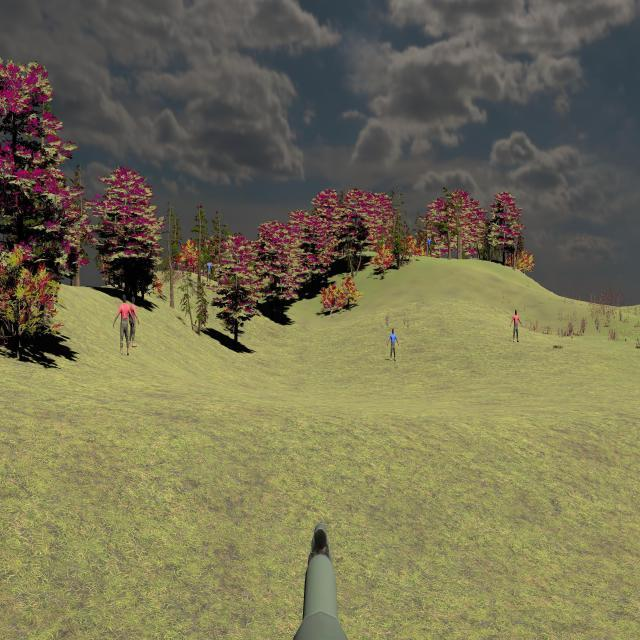Human: (114, 294, 134, 355), (125, 294, 140, 347), (387, 328, 399, 362), (510, 309, 522, 343)
